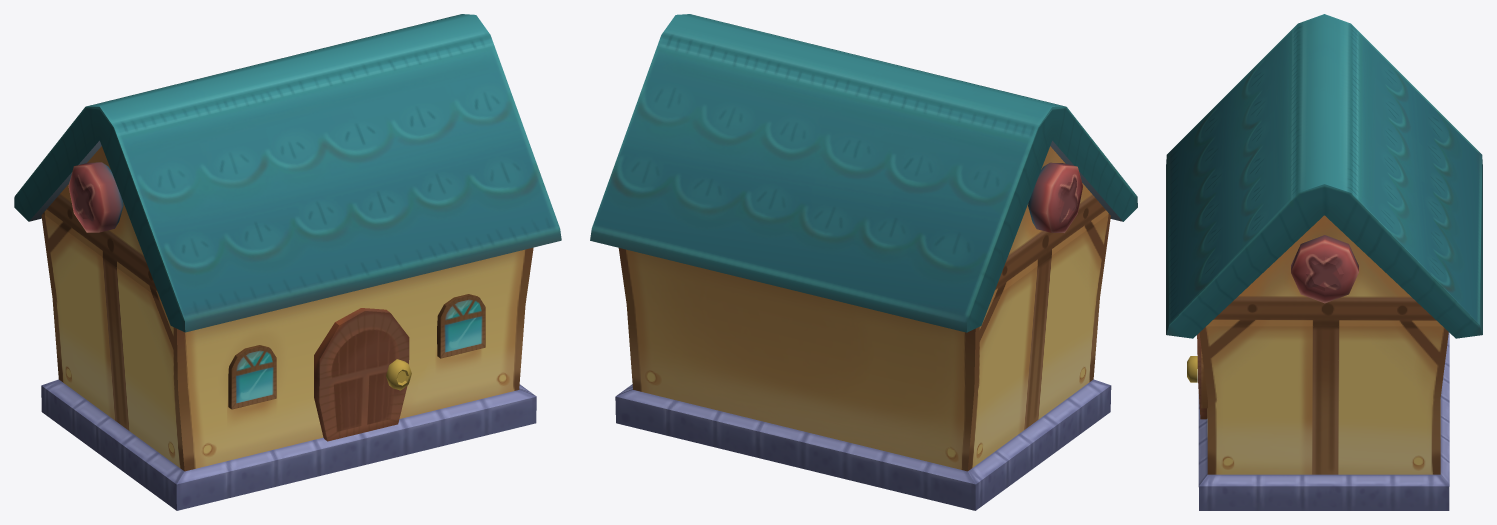
Rendered from house_b.FBX.
The picture shows the model from 3 angles, left to right: view 1: azimuth 30°, elevation 25°; view 2: azimuth 150°, elevation 25°; view 3: azimuth 270°, elevation 25°; orthographic projection. The views are drawn at different scales.
Parts seen in each view (by area): view 1: Box071; view 2: Box071; view 3: Box071.
Part boxes in pixels (box(x1,y1,x2,y2)): Box071: box(14, 14, 561, 510); Box071: box(590, 14, 1137, 510); Box071: box(1166, 14, 1482, 510).
Bounding box in the file's own units: 29.71 × 24.73 × 21.49.
